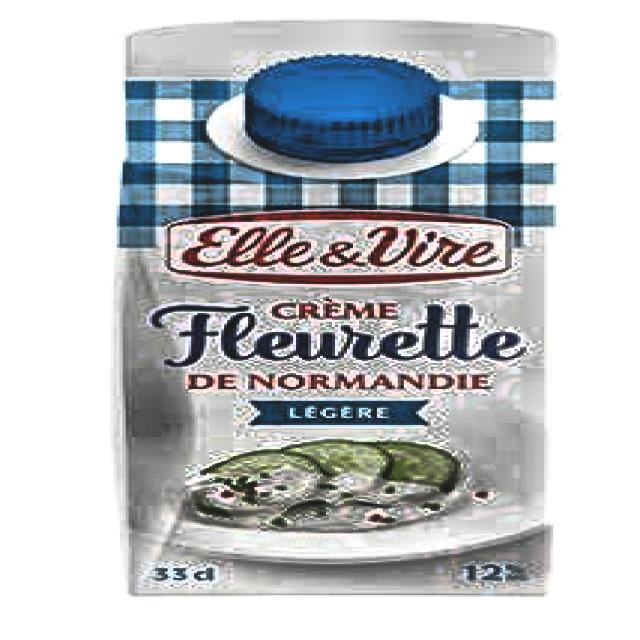cardboard: (110, 17, 560, 595)
